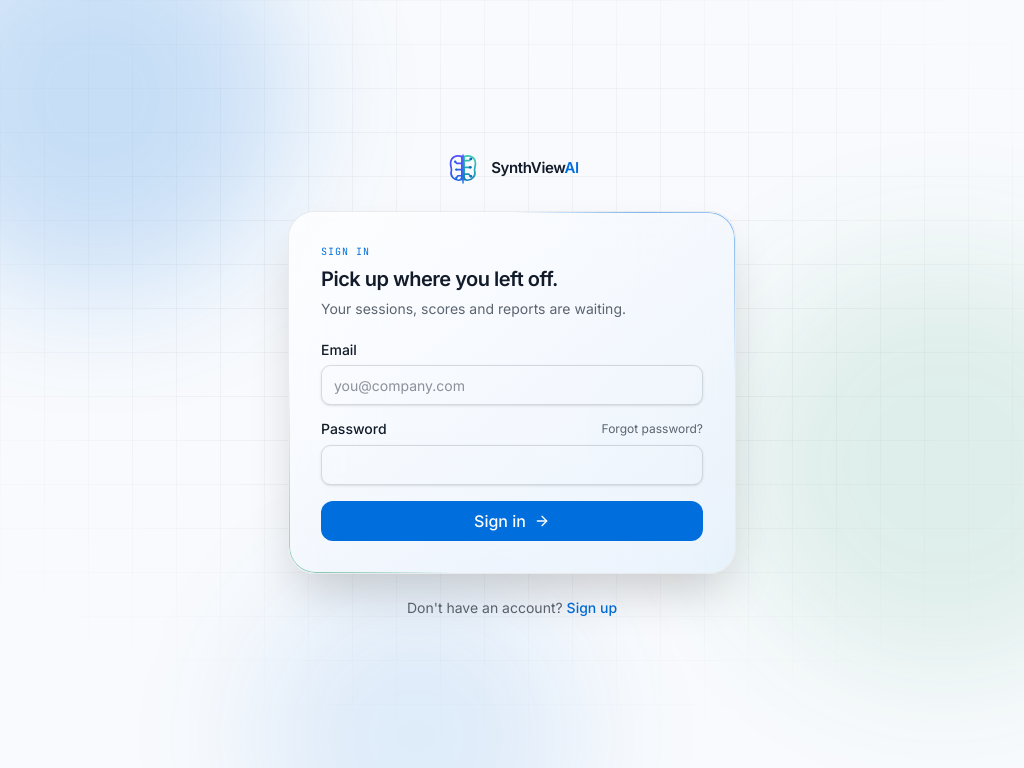
Test: Login Form Component › handles login errors gracefully
This screenshot has width=1024, height=768.
Type "test@example.com" into the field labelled "Email".
click(512, 384); type("test@example.com")  # box [321,364,703,404]
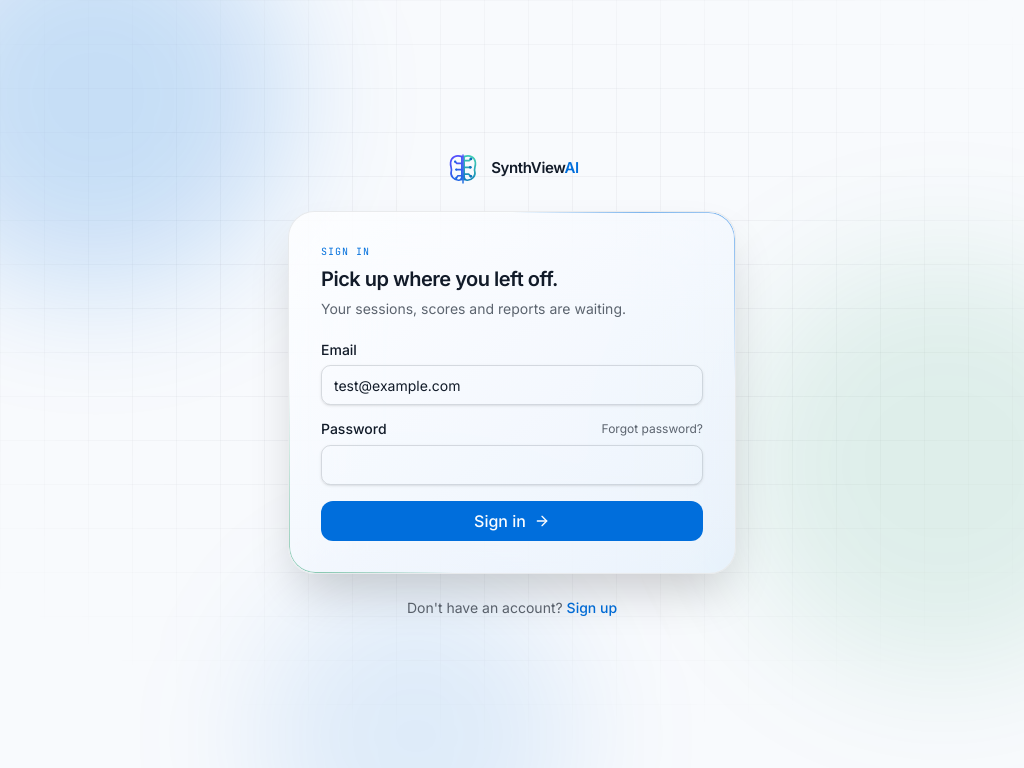
Type "wrongpass" into the password field labelled "Password".
click(512, 464); type("wrongpass")  # box [321,444,703,484]
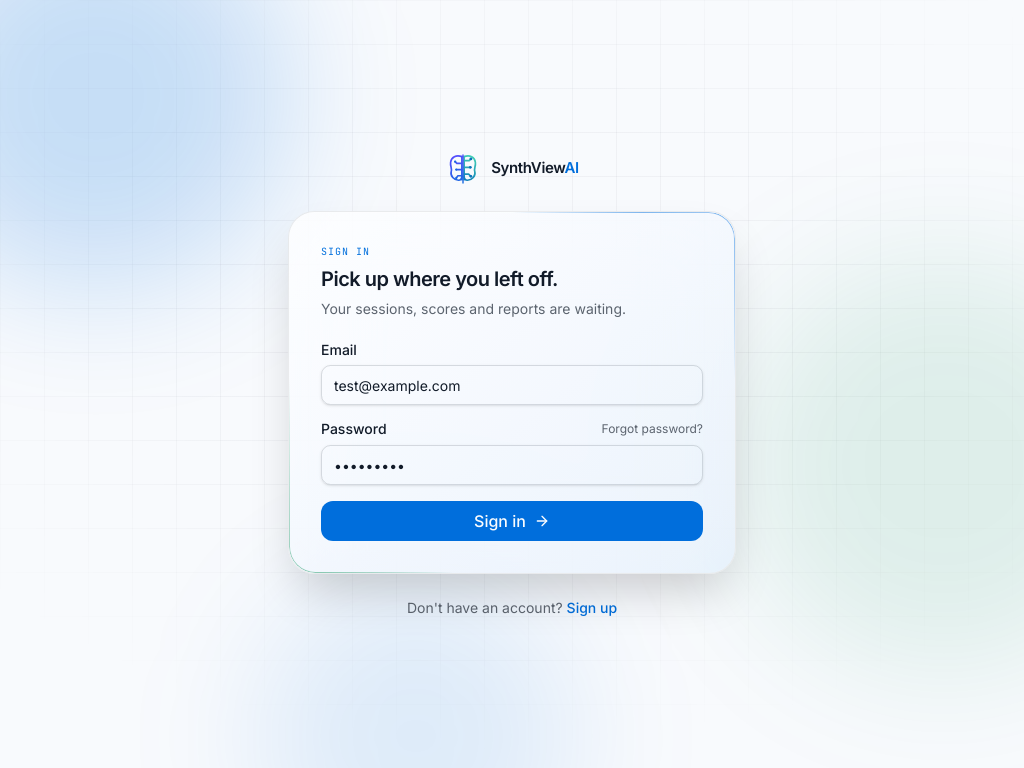
Click the button "Sign in".
click(512, 520)  # box [321,500,703,540]
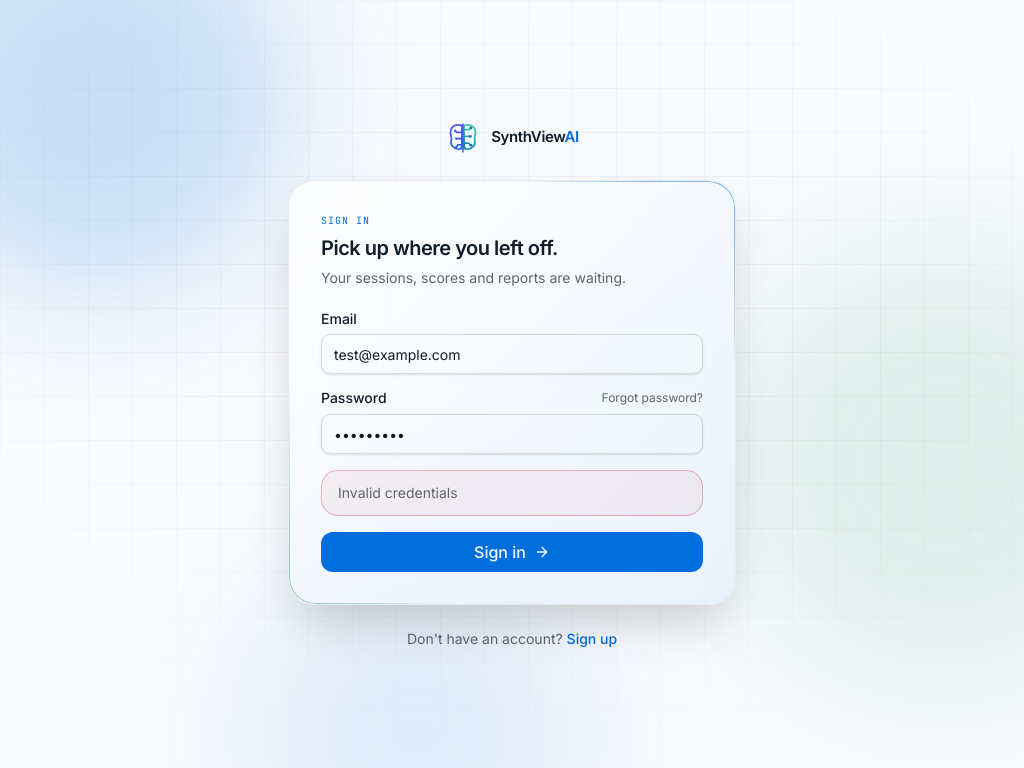
Expected: the text "Invalid credentials" is shown, [338,484,458,500]
